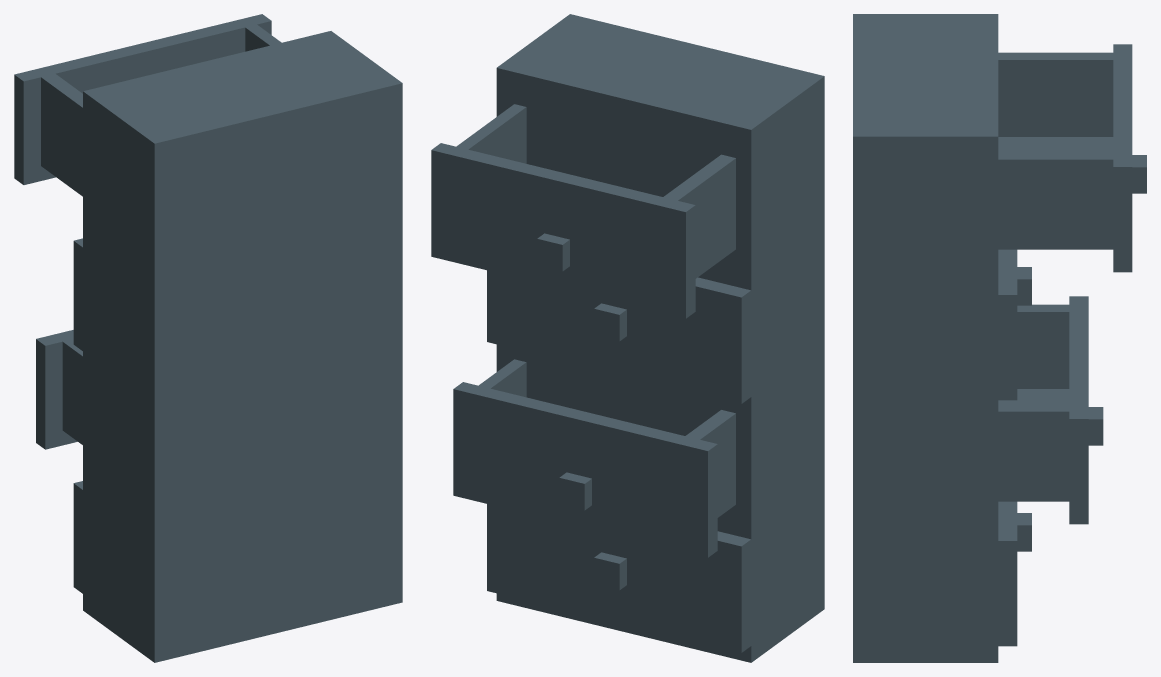
File: archival cases_2.fbx
The picture shows the model from 3 angles, left to right: view 1: azimuth 30°, elevation 25°; view 2: azimuth 150°, elevation 25°; view 3: azimuth 270°, elevation 25°; orthographic projection. The views are drawn at different scales.
Visible parts, largest first — view 1: archival cases_2.001; view 2: archival cases_2.001; view 3: archival cases_2.001.
Part boxes in pixels (x1,y1,x2,y2): archival cases_2.001: (14,14,402,662); archival cases_2.001: (431,14,824,662); archival cases_2.001: (853,14,1146,662).
Bounding box in the file's own units: 101 × 200 × 101.
